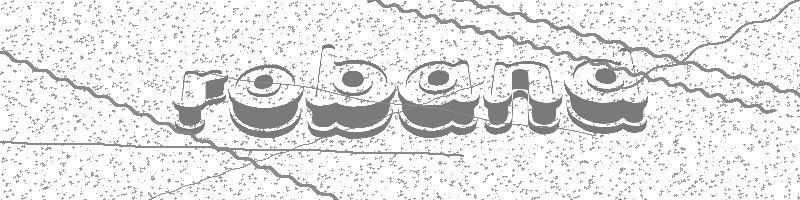a: (399, 60, 479, 136)
b: (307, 44, 395, 137)
d: (564, 48, 647, 134)
n: (484, 61, 562, 135)
o: (229, 65, 304, 136)
r: (173, 70, 227, 135)
